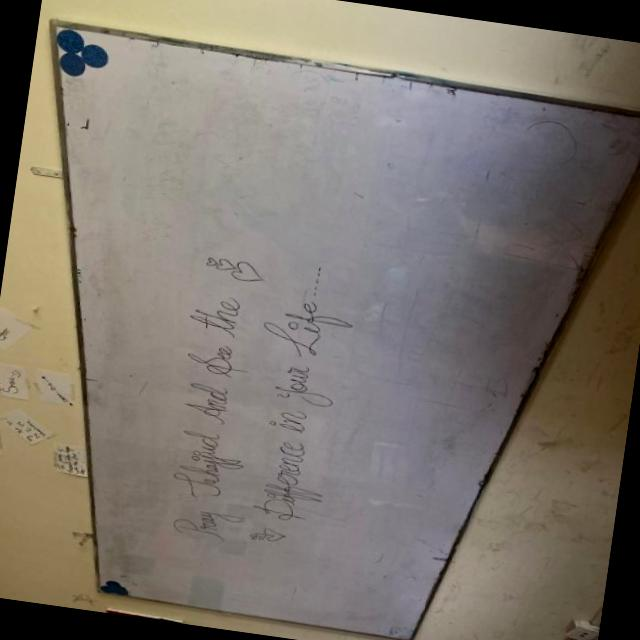White-board: (54, 21, 640, 640)
